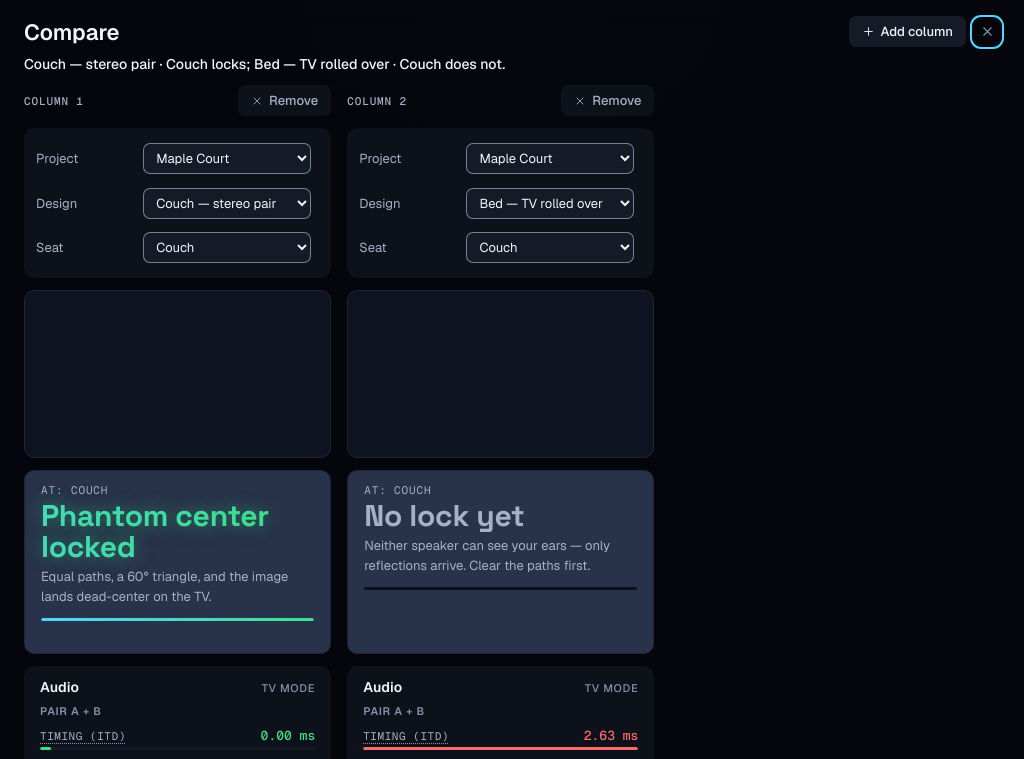
Test: ScenarioCompare — the N bounds are enforced in the UI, not just in a constant › disables Remove at the minimum and re-enables it above
The width and height of the screenshot is (1024, 759).
Check: the button "Remove" next to "Column 1" is disabled, box x1=238 y1=85 x2=331 y2=116
Check: the button "Remove" next to "Column 2" is disabled, box x1=561 y1=85 x2=654 y2=116
Click the button "Add column" at (907, 32), box x1=849 y1=16 x2=966 y2=47
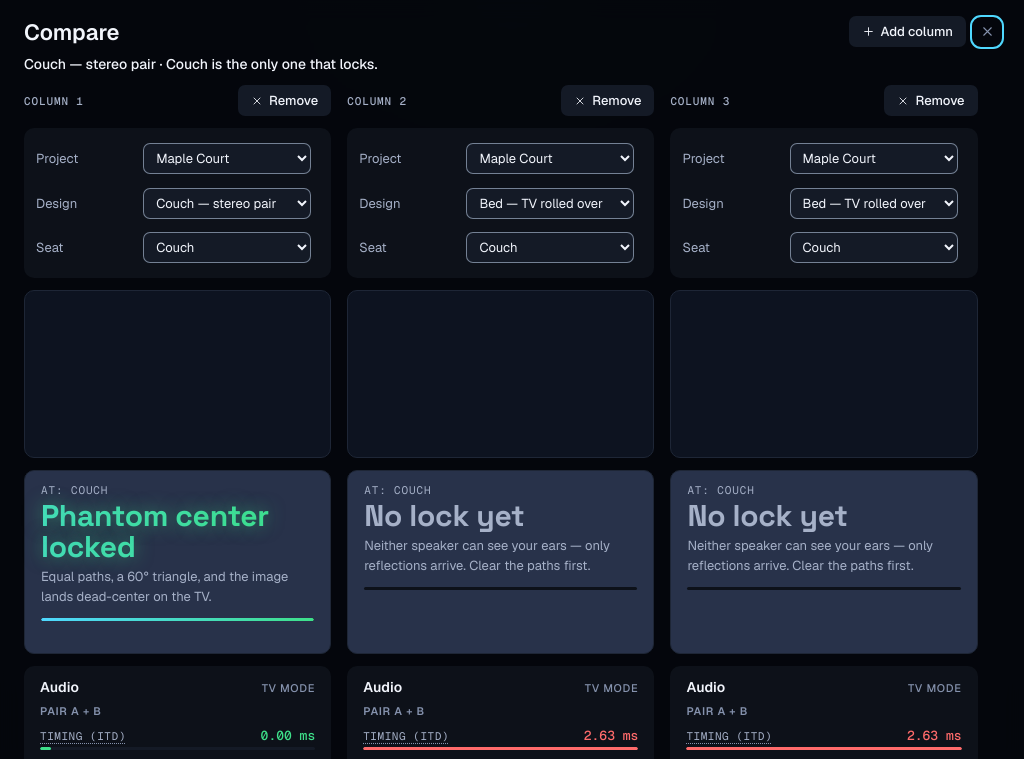
Check: the button "Remove" next to "Column 1" is enabled, box x1=238 y1=85 x2=331 y2=116
Check: the button "Remove" next to "Column 2" is enabled, box x1=561 y1=85 x2=654 y2=116
Check: the button "Remove" next to "Column 3" is enabled, box x1=884 y1=85 x2=978 y2=116
